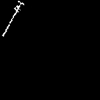treble_crochet: (3, 1, 23, 35)
